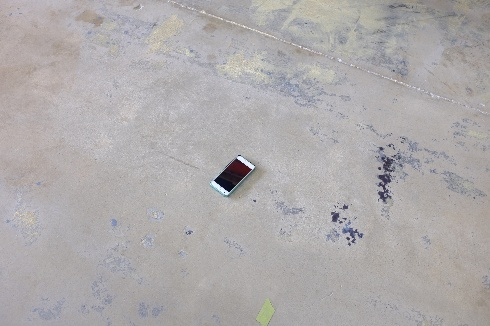phone: (208, 159, 257, 191)
